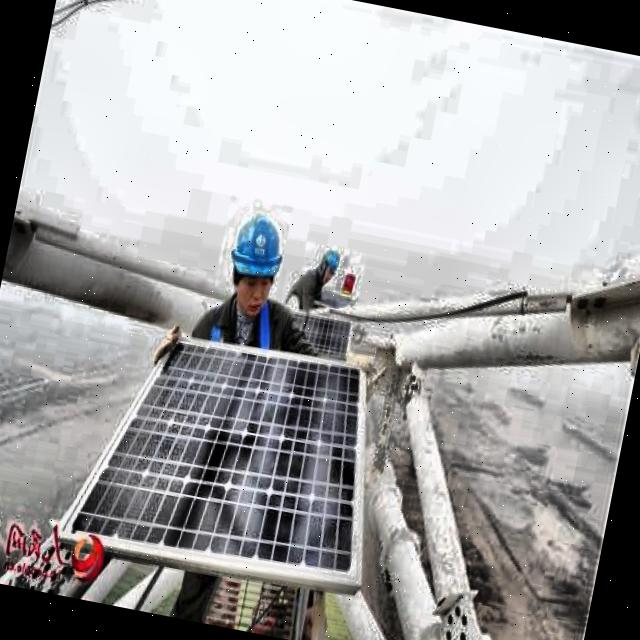helmet: (218, 200, 294, 328), (316, 242, 346, 288)
